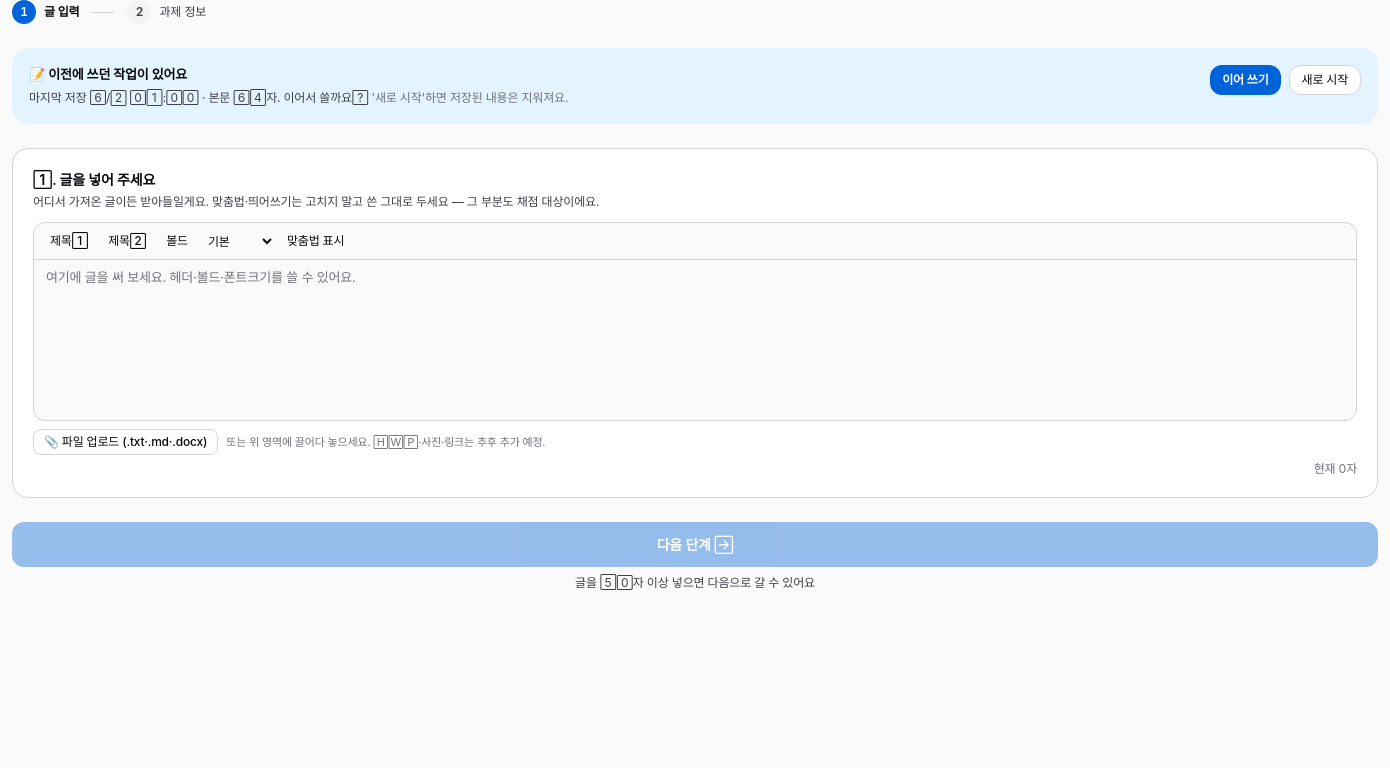
ScoreWizard › draft restore: shows banner on mount, body empty; [이어 쓰기] restores
expect the text "📝 이전에 쓰던 작업이 있어요" is shown: met, box [29,66,187,82]
Step 1. Click the button "이어 쓰기" → click(1245, 80), box [1210,65,1280,95]
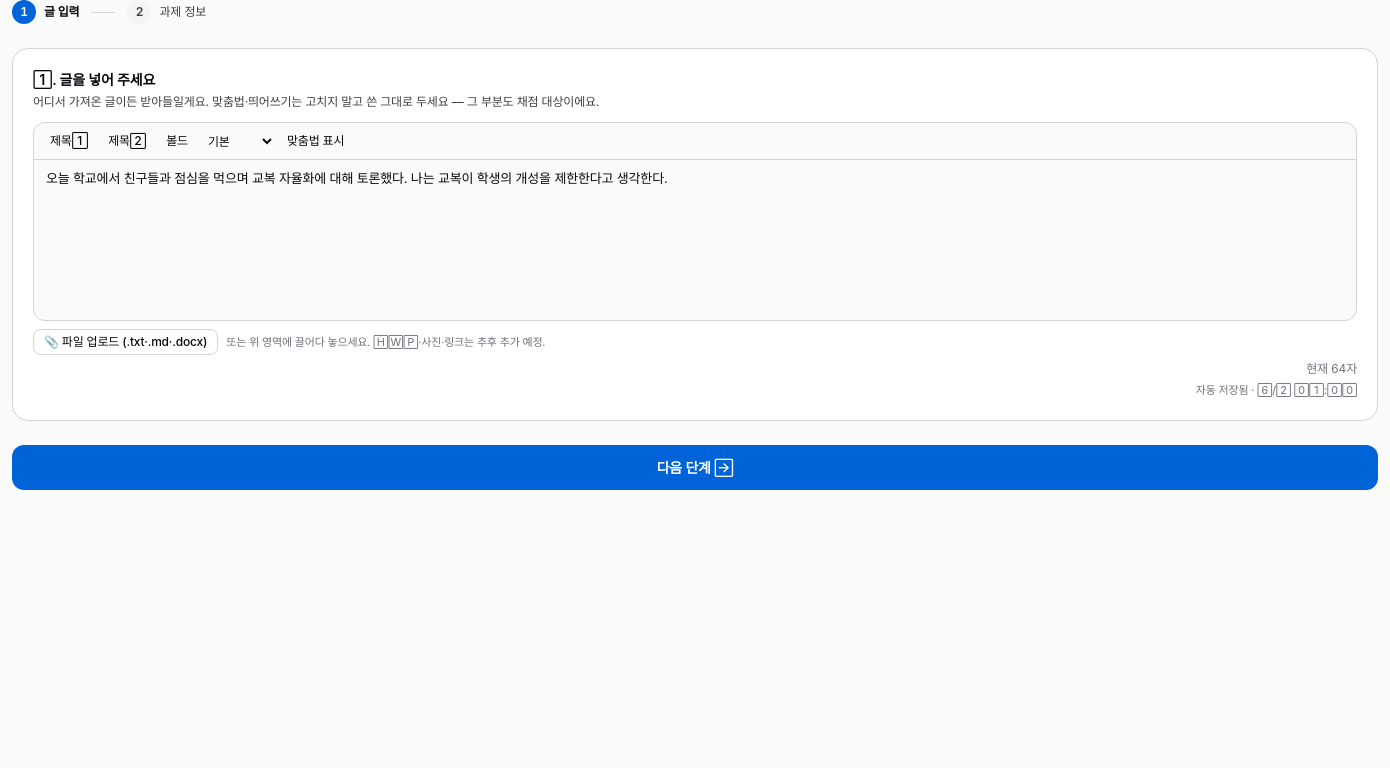
expect the field with id "body" reads "오늘 학교에서 친구들과 점심을 먹으며 교복 자율화에 대해 토론했다. 나는 교복이 학생의 개성을 제한한다고 생각한다.": met, box [46,170,668,186]
expect the text "📝 이전에 쓰던 작업이 있어요" is gone: met
